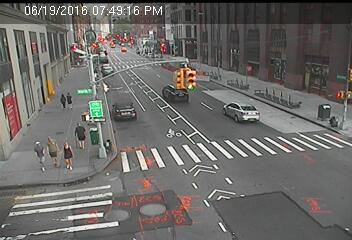neg: (236, 109, 271, 155), (172, 120, 197, 154), (174, 61, 199, 95), (142, 83, 163, 112), (108, 106, 128, 132), (292, 105, 309, 127)
pos: (18, 137, 45, 173), (38, 134, 62, 166), (59, 138, 83, 169), (67, 120, 88, 146), (65, 89, 80, 109), (51, 89, 66, 109)
